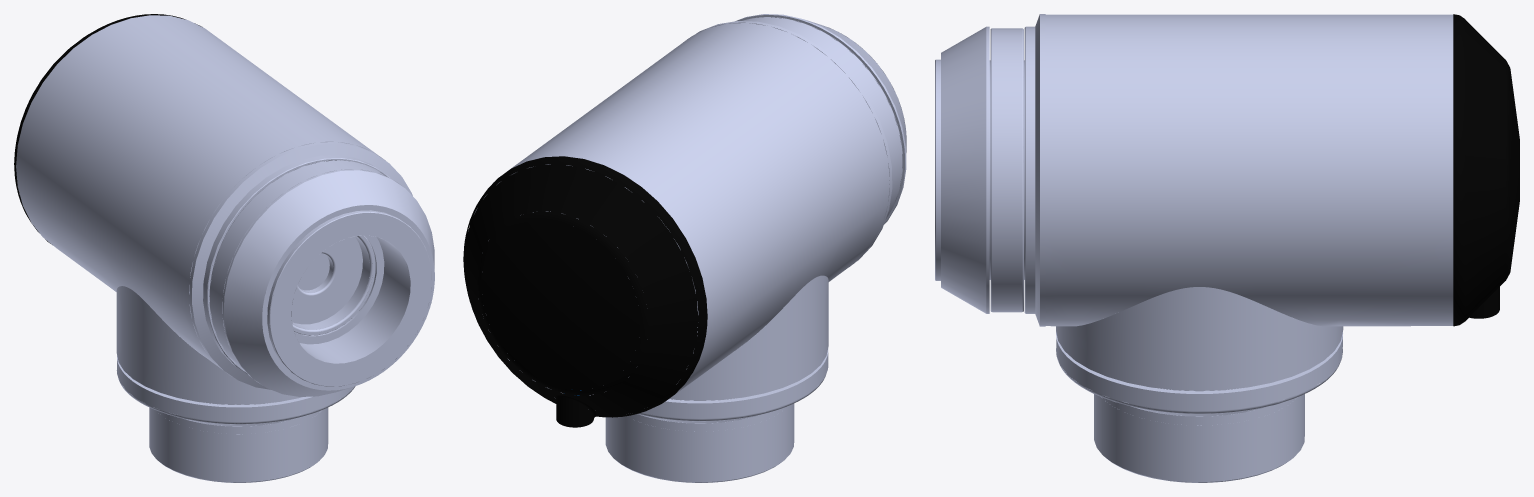
3 views of the same model, side by side, from view 1: azimuth 30°, elevation 25°; view 2: azimuth 150°, elevation 25°; view 3: azimuth 270°, elevation 25° (orthographic). The views are drawn at different scales.
Parts seen in each view (by area): view 1: j3.IGS (×3); view 2: j3.IGS (×3); view 3: j3.IGS (×3).
Boxes of the visible parts, left/top/right/bottom form: j3.IGS (×3): left=14, top=14, right=434, bottom=482; j3.IGS (×3): left=463, top=14, right=906, bottom=482; j3.IGS (×3): left=935, top=14, right=1519, bottom=482.
Size of the model in its own units: 0.185 by 0.268 by 0.3461.
